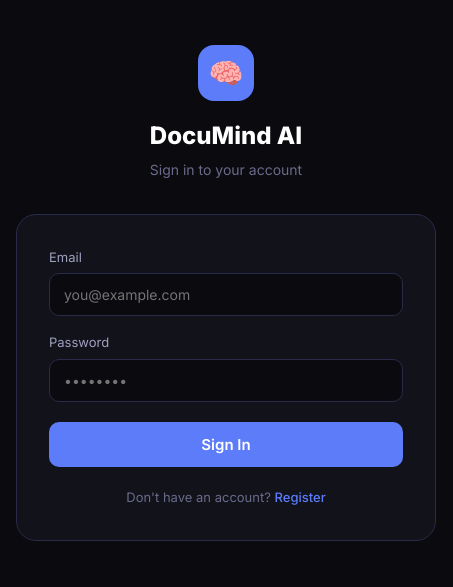
LoginPage › shows error on failed login
Type "bad@test.com" into the field with placeholder "you@example.com". click: (226, 295)
box: 49,274 -> 403,316
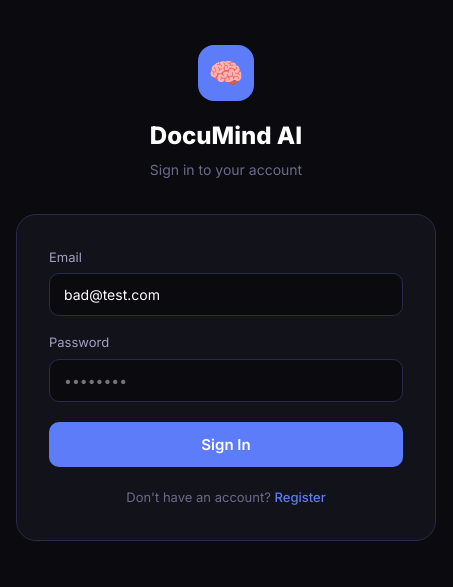
Type "wrongpass" into the password field with placeholder "••••••••". click: (226, 381)
box: 49,359 -> 403,402
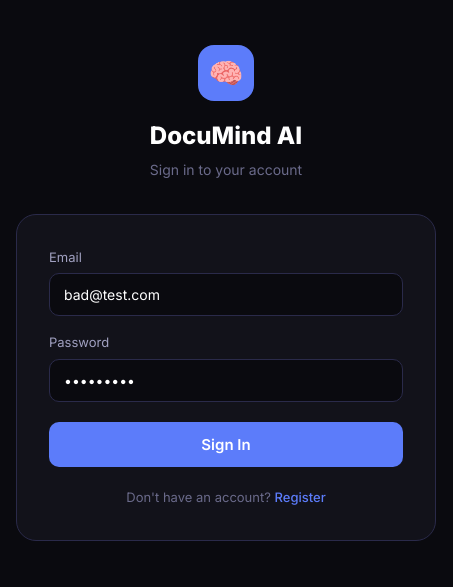
Click the button "Sign In". click: click(226, 445)
box: 49,422 -> 403,467
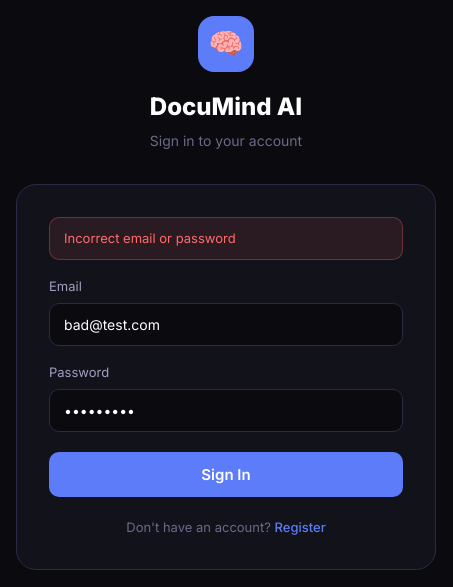
Result: the text "Incorrect email or password" is shown at 49,217 -> 403,260
